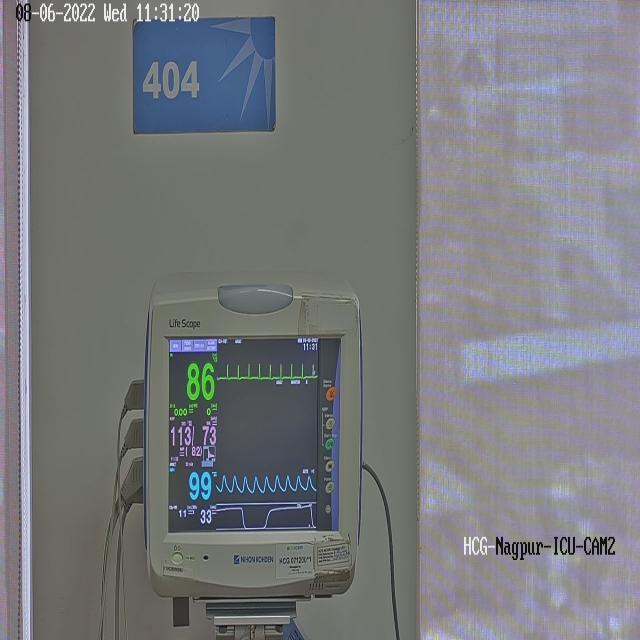Monitor: (142, 270, 364, 606)
